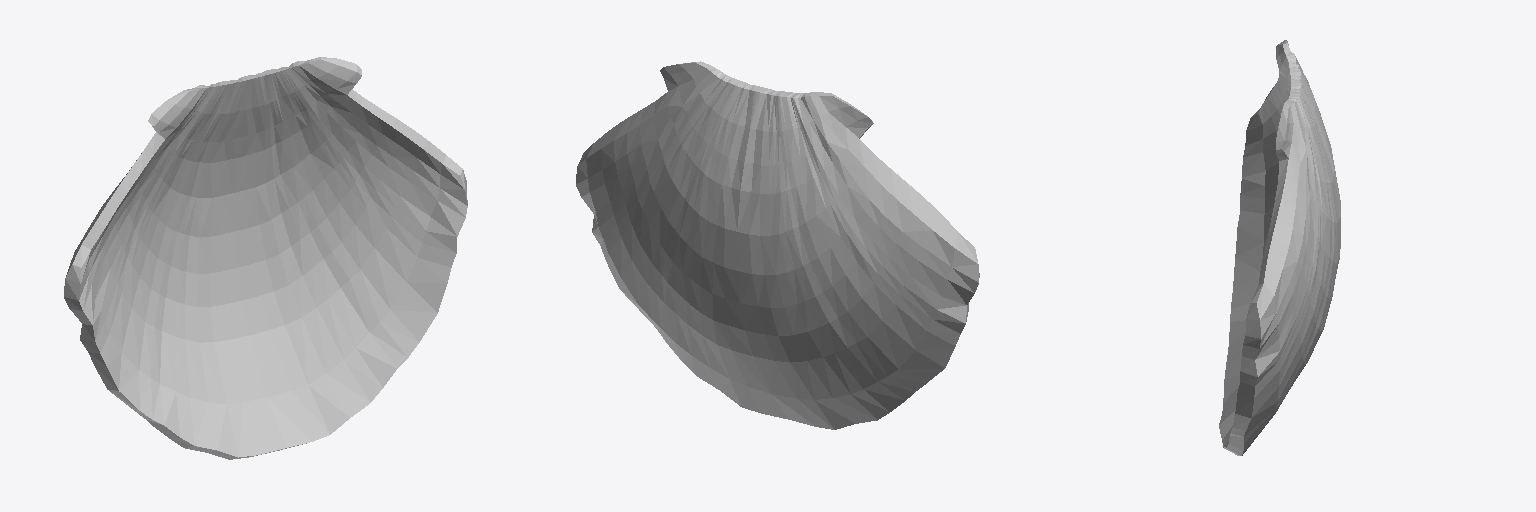
File: clam_v1.OBJ
3 renders of one model, left to right at view 1: azimuth 30°, elevation 25°; view 2: azimuth 150°, elevation 25°; view 3: azimuth 270°, elevation 25°, orthographic.
Visible parts, largest first — view 1: ZBrushPolyMesh3D; view 2: ZBrushPolyMesh3D; view 3: ZBrushPolyMesh3D.
Part boxes in pixels (x1,y1,x2,y2): ZBrushPolyMesh3D: (64, 57, 467, 459); ZBrushPolyMesh3D: (576, 61, 979, 429); ZBrushPolyMesh3D: (1219, 40, 1340, 455).
Bounding box in the file's own units: 12.67 × 10.78 × 3.34.